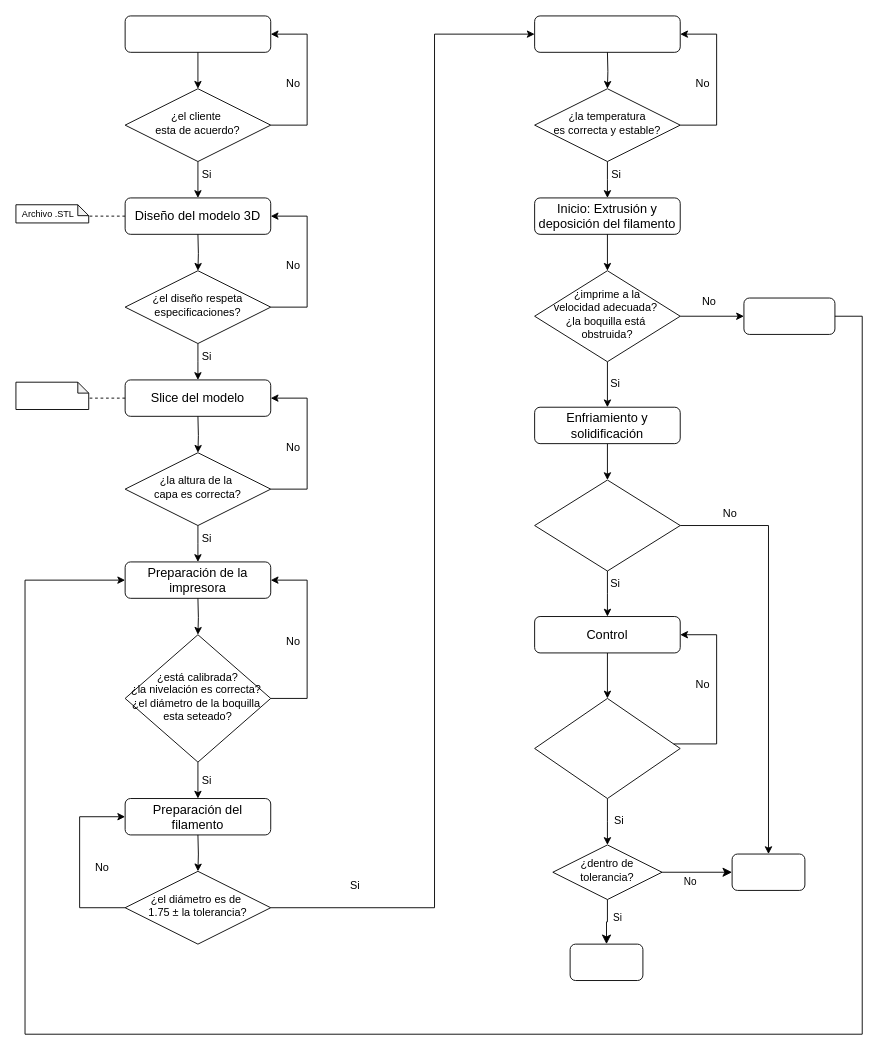
This 885x1057 diagram has some shape labels left out. Here are the shapes that lost their labels. From the top down, the centre of each, then its label:
At pixel 197 33: "Definir especificaciones".
At pixel 607 33: "Calentamiento".
At pixel 789 315: "Detener impresion".
At pixel 52 395: "Instrucciones GCODE".
At pixel 607 525: "¿la ventilación es correcta? ¿el material se deforma o contrae?".
At pixel 607 748: "¿se mide con el instrumento correcto? ¿la muestra es representativa?".
At pixel 768 871: "Rechazada".
At pixel 606 962: "Aprobada".
